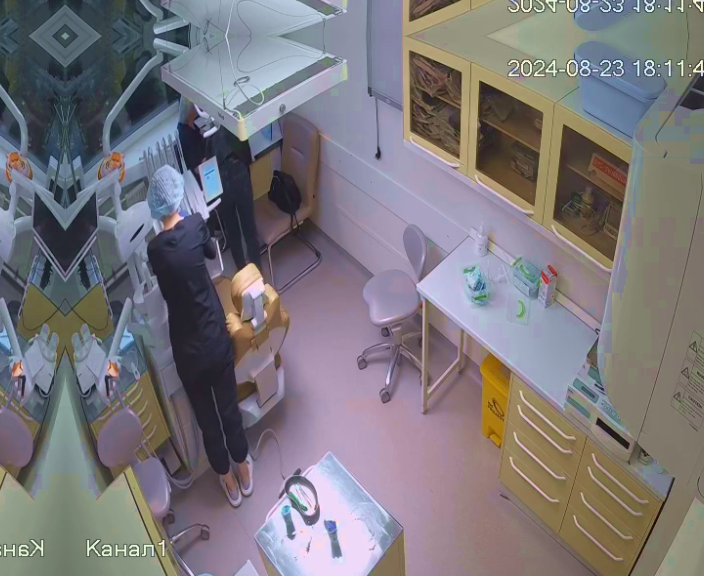Empty: (214, 264, 305, 428)
